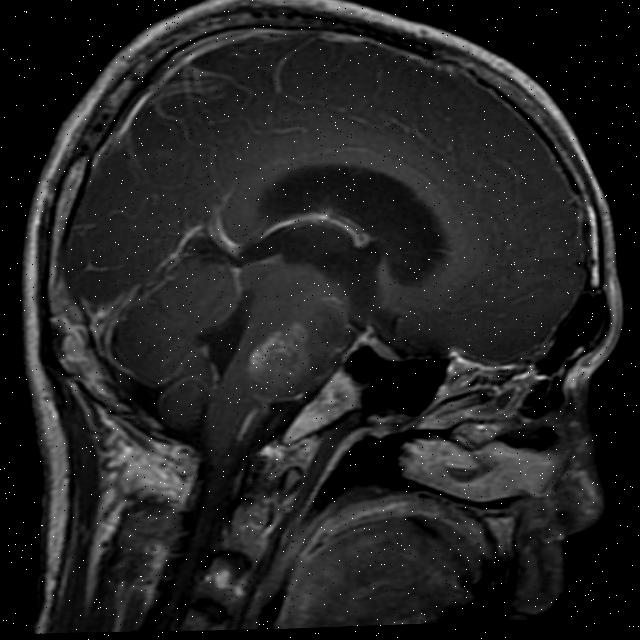Glioma: (247, 318, 314, 385)
